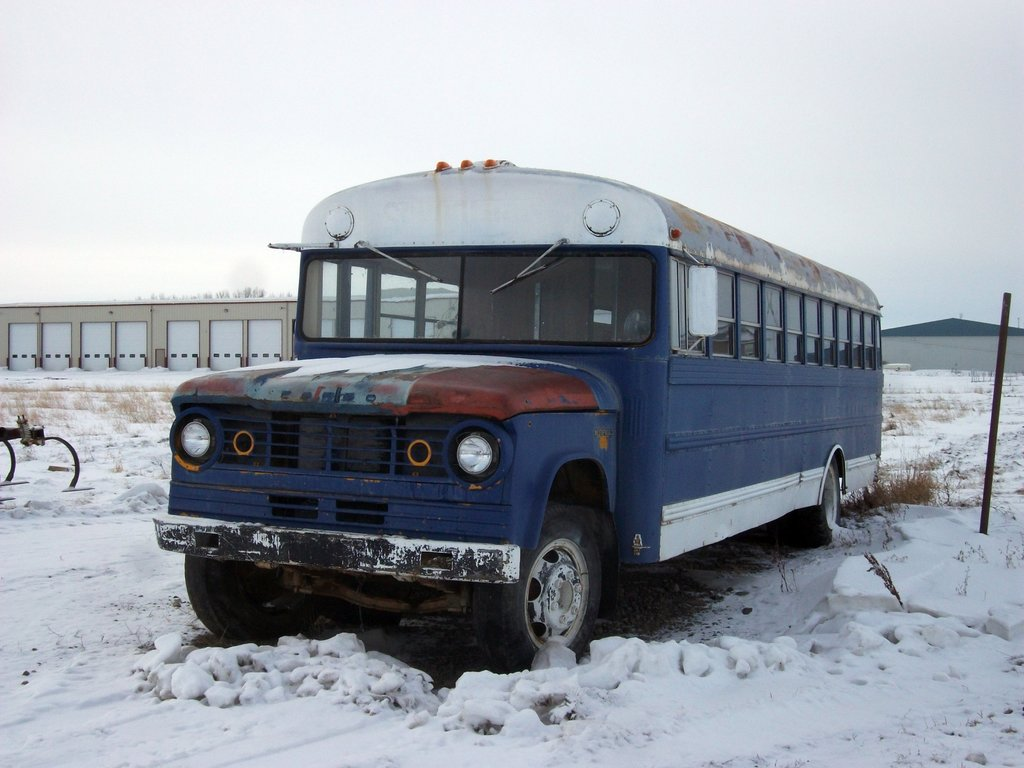Bus: (156, 156, 884, 663)
